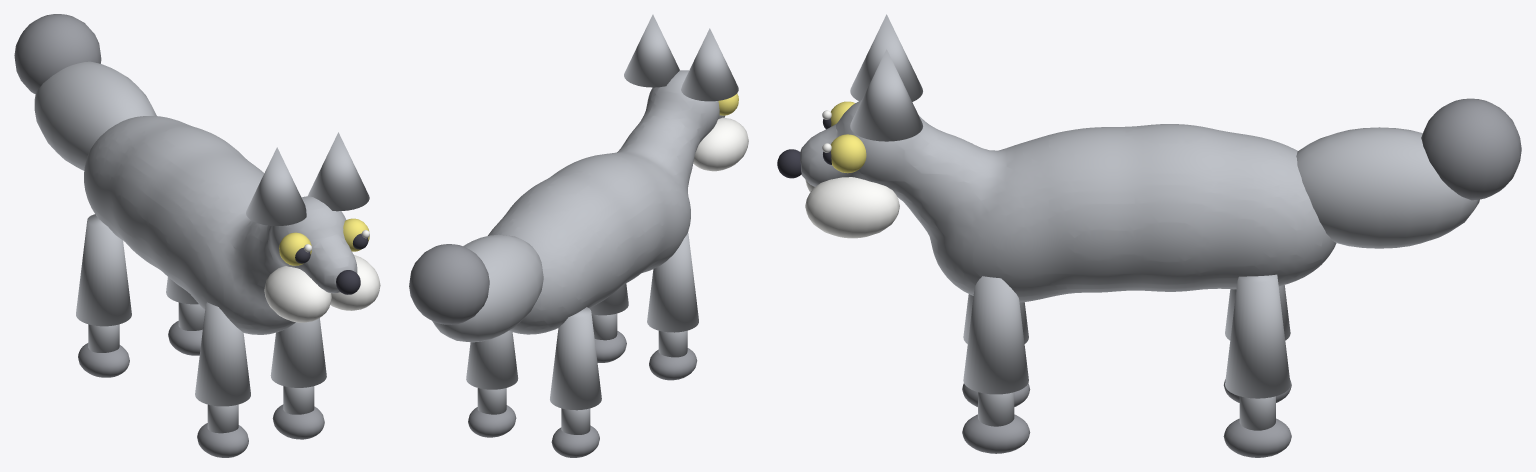
The model's file is Wolf.fbx.
3 renders of one model, left to right at view 1: azimuth 30°, elevation 25°; view 2: azimuth 150°, elevation 25°; view 3: azimuth 270°, elevation 25°, orthographic. The views are drawn at different scales.
Visible parts, largest first — view 1: Wolf; view 2: Wolf; view 3: Wolf.
Boxes of the visible parts, x1,y1,x2,y2 form: Wolf: [14, 14, 380, 457]; Wolf: [409, 14, 748, 457]; Wolf: [777, 14, 1521, 457].
Size of the model in its own units: 154 by 360 by 612.
